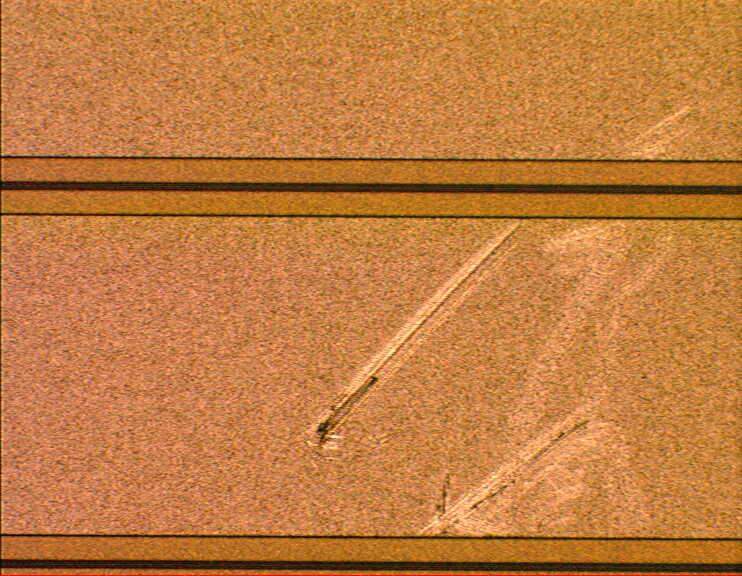SCRATCH: (301, 102, 703, 541)
